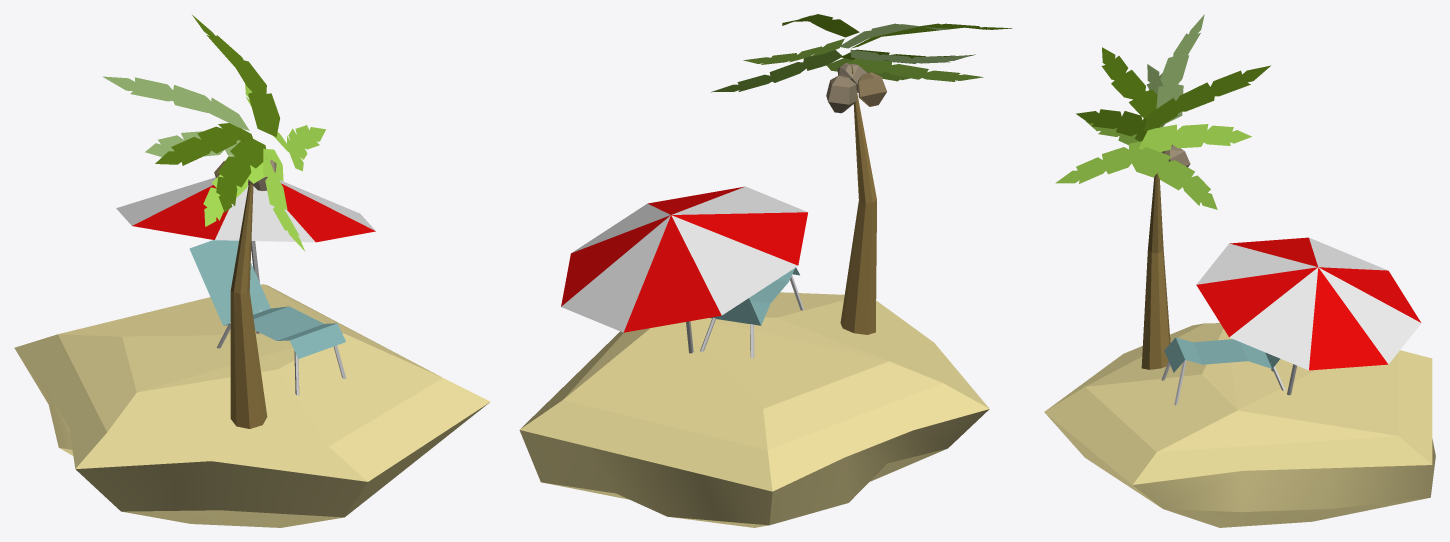
The model's file is island4.fbx.
3 views of the same model, side by side, from view 1: azimuth 30°, elevation 25°; view 2: azimuth 150°, elevation 25°; view 3: azimuth 270°, elevation 25° (orthographic). The views are drawn at different scales.
Parts seen in each view (by area): view 1: i4_land, pCone3, polySurface1 (×3), pPlane1, pCone2, polySurface4 (×3), polySurface2 (×2); view 2: i4_land, pCone3, pCone2, polySurface4 (×2), polySurface1 (×3), polySurface2 (×2), pPlane1, coconut2, coconut3; view 3: i4_land, pCone3, polySurface1 (×3), pCone2, polySurface4 (×2), polySurface2 (×2), pPlane1.
Part boxes in pixels (x1=…): i4_land: x1=14, y1=284, x2=490, y2=527; pCone3: x1=116, y1=177, x2=375, y2=242; polySurface1 (×3): x1=102, y1=15, x2=280, y2=165; pPlane1: x1=189, y1=240, x2=345, y2=358; pCone2: x1=230, y1=182, x2=267, y2=428; polySurface4 (×3): x1=203, y1=125, x2=325, y2=250; polySurface2 (×2): x1=145, y1=129, x2=266, y2=212; i4_land: x1=519, y1=292, x2=989, y2=527; pCone3: x1=561, y1=186, x2=807, y2=332; pCone2: x1=840, y1=61, x2=876, y2=334; polySurface4 (×2): x1=711, y1=50, x2=983, y2=92; polySurface1 (×3): x1=782, y1=14, x2=1012, y2=48; polySurface2 (×2): x1=743, y1=38, x2=971, y2=64; pPlane1: x1=710, y1=267, x2=799, y2=325; coconut2: x1=826, y1=75, x2=856, y2=113; coconut3: x1=857, y1=72, x2=886, y2=106; i4_land: x1=1044, y1=323, x2=1435, y2=527; pCone3: x1=1196, y1=237, x2=1421, y2=370; polySurface1 (×3): x1=1101, y1=14, x2=1270, y2=131; pCone2: x1=1141, y1=173, x2=1170, y2=369; polySurface4 (×2): x1=1055, y1=141, x2=1217, y2=209; polySurface2 (×2): x1=1076, y1=109, x2=1251, y2=151; pPlane1: x1=1164, y1=337, x2=1279, y2=372.
Size of the model in its own units: 16.4 by 20.21 by 17.02.
